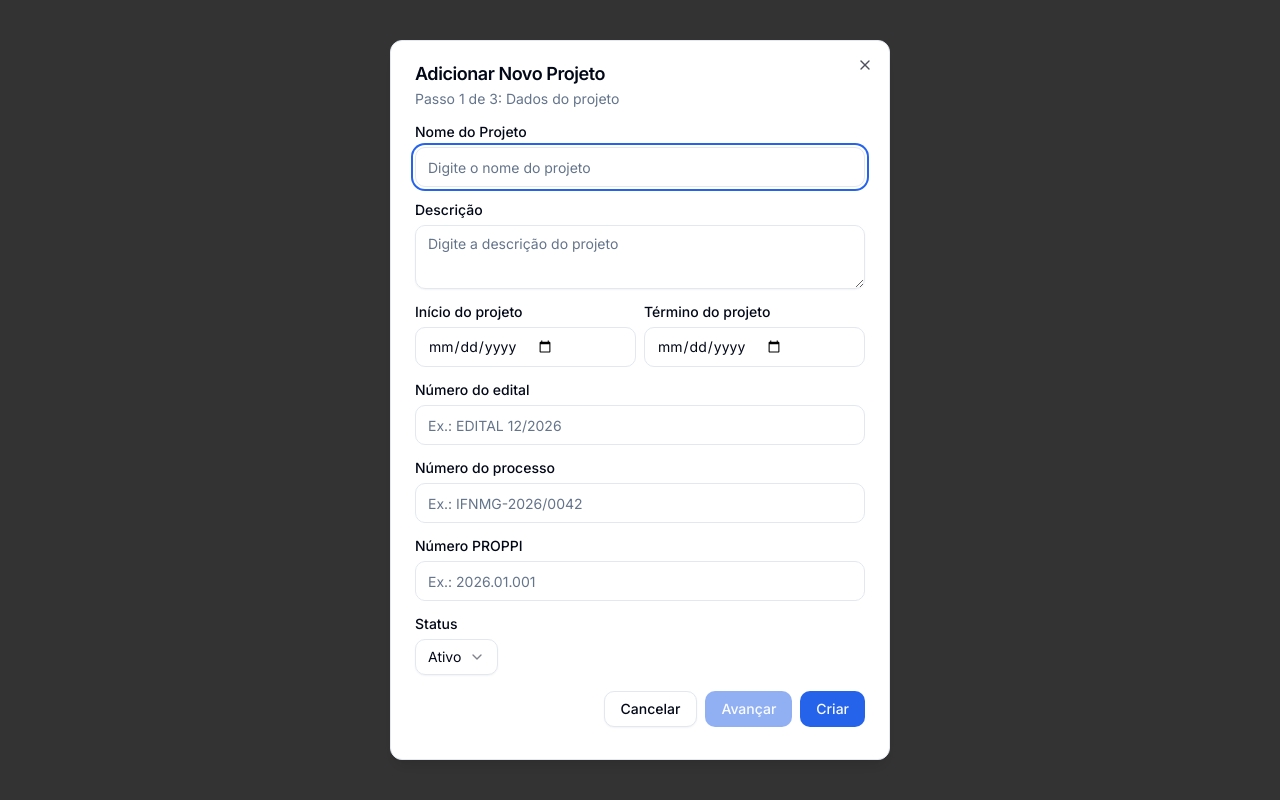
it: wizard de criação de projeto › abre no passo 1 de 3 e Avançar percorre os três passos
The width and height of the screenshot is (1280, 800).
Expected: the text "Passo 1 de 3: Dados do projeto" is shown, [415,90,619,107]
Expected: the text "Líder do Projeto" is not shown
Type "Projeto Cronograma" into the field labelled "Nome do Projeto" at (640, 167), box [415,147,865,187]
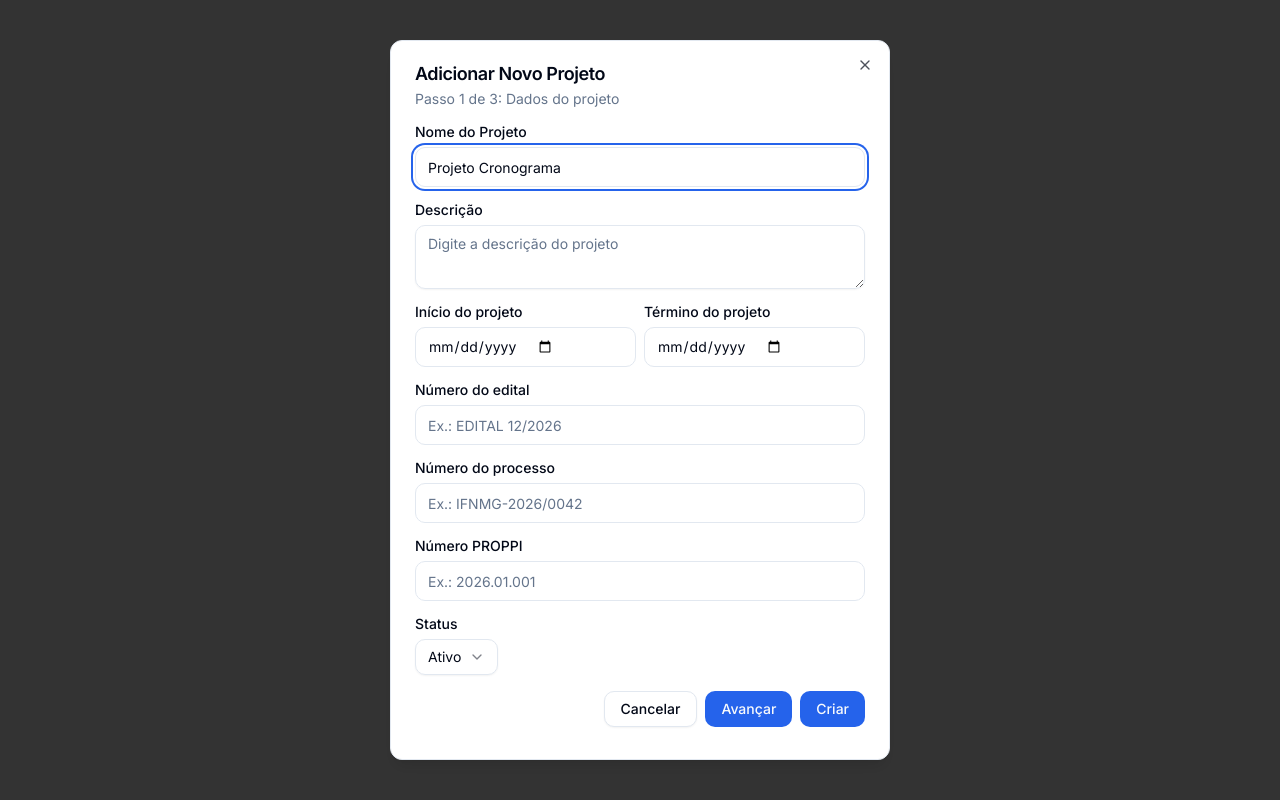
Click the button "Avançar" at (749, 709), box [705,691,792,727]
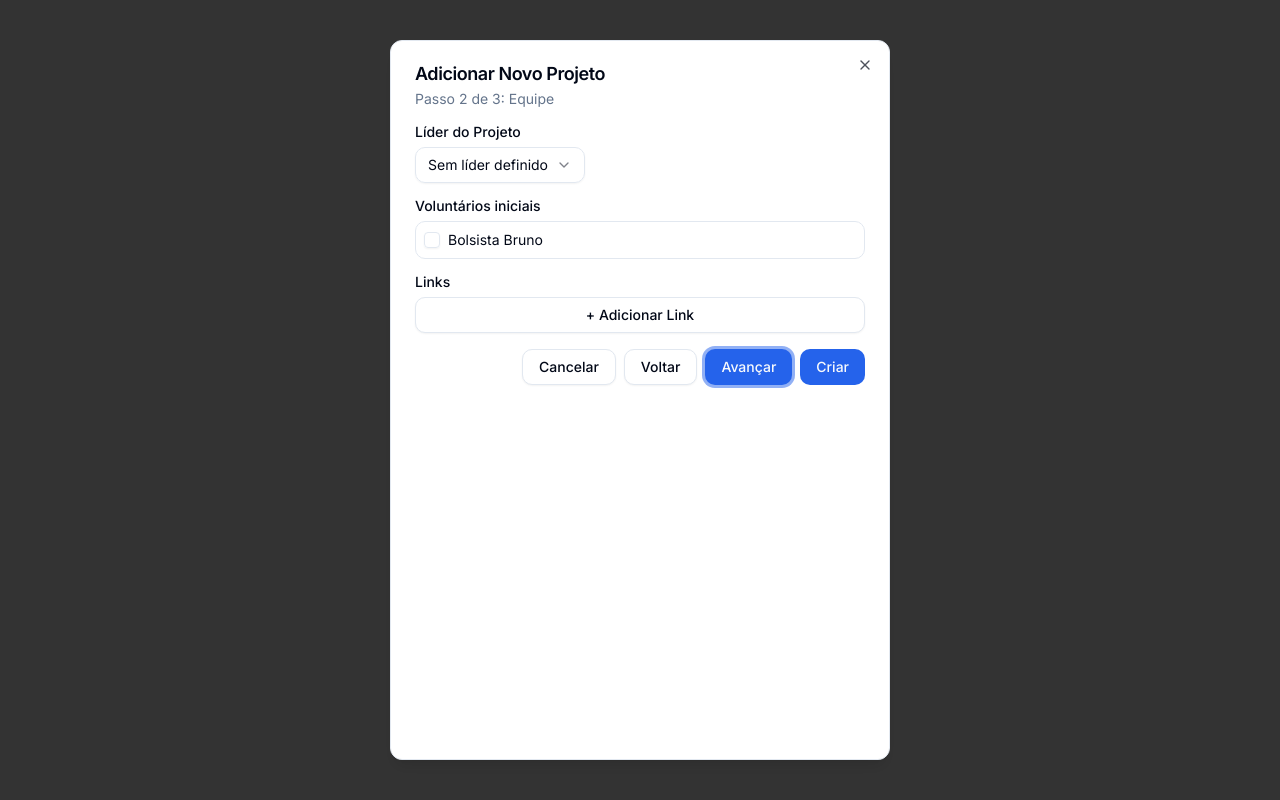
Click the button "Avançar" at (749, 367), box [705,349,792,385]
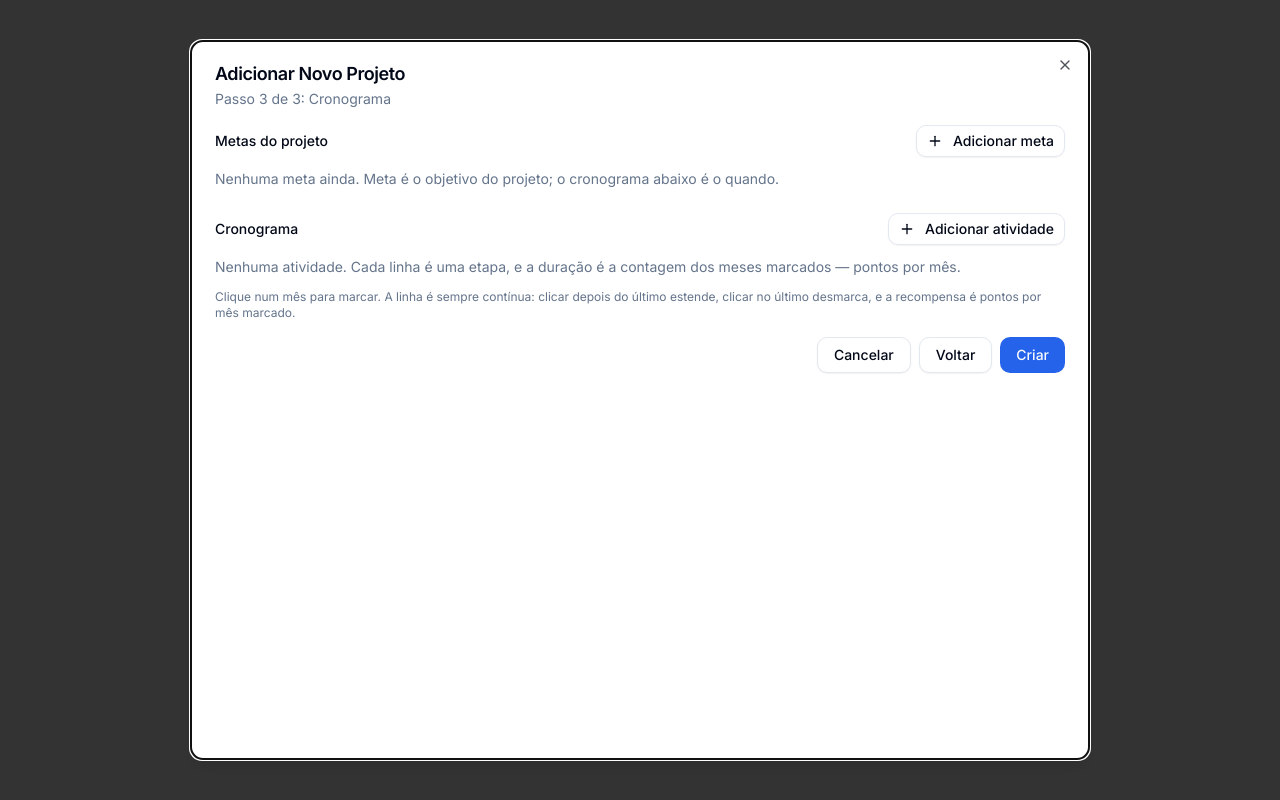
Expected: the button "Voltar" is shown, [919,337,992,373]
Expected: the text "Passo 3 de 3: Cronograma" is shown, [215,90,391,107]
